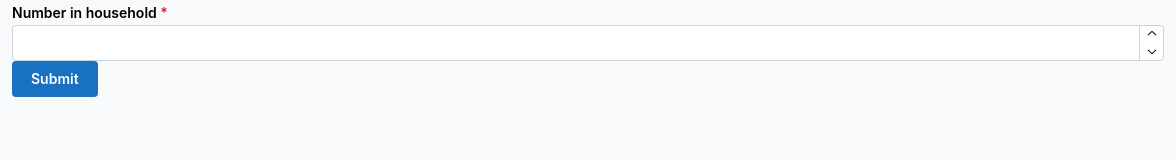
Test: ControlledNumberInput › asks for an answer when the field is left empty
Click the field labelled "Number in household *" at (588, 43), box [12,25,1164,61]
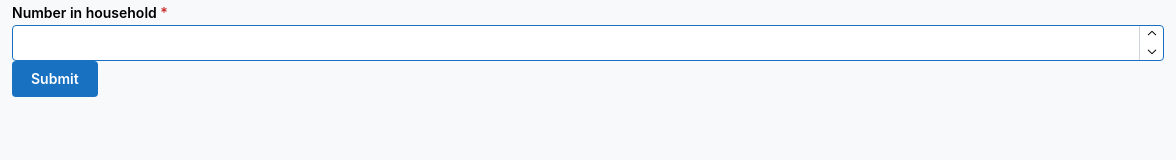
Press Tab
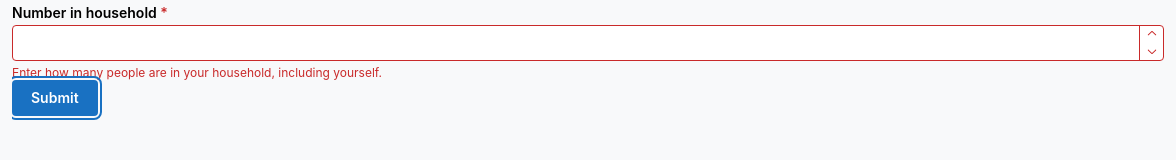
Check: the text "how many people are in your household" is shown, box [12,65,382,80]
